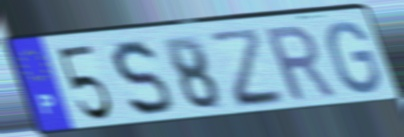5: (53, 42, 114, 124)
8: (164, 34, 223, 113)
G: (325, 19, 385, 96)
R: (260, 22, 340, 105)
S: (109, 37, 176, 120)
Z: (205, 25, 290, 112)
